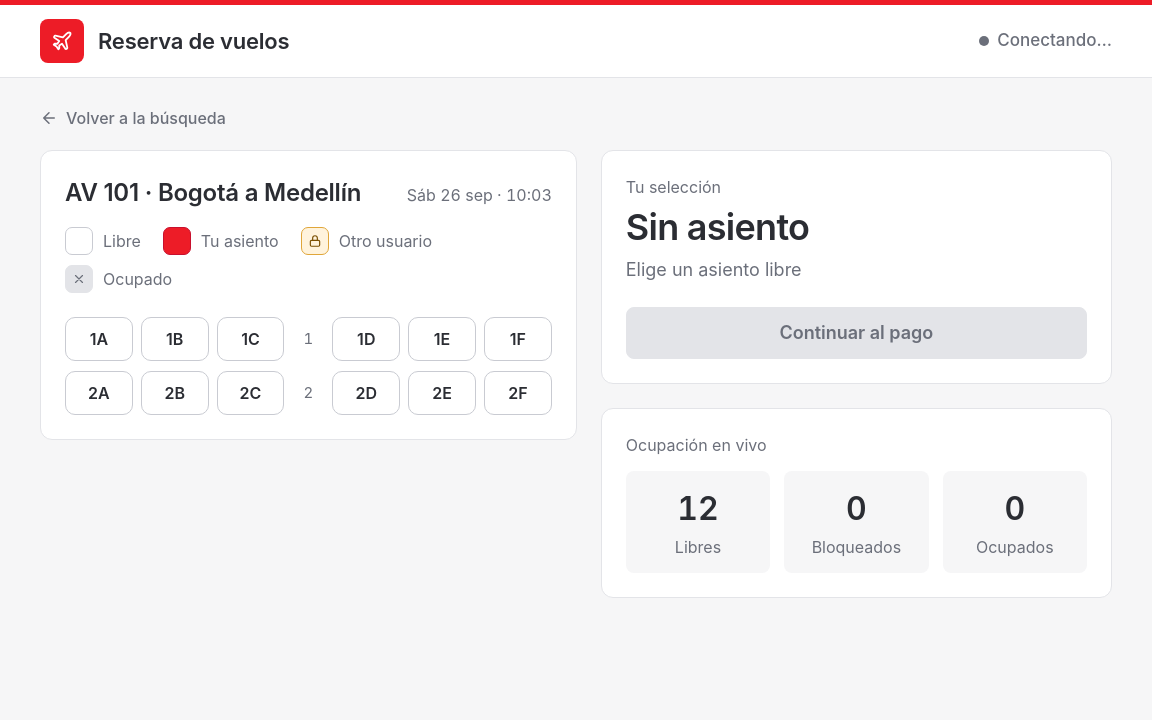
Scenario: SeatMapPage: selecting a seat › moving to another seat frees the previous one at once
Expected: the heading "AV 101 · Bogotá a Medellín" is shown, [65,175,361,211]
What coordinates should you click on to do the following:
click the button "1A"
I would click on:
 (99, 339)
Its box is [65,317,133,361].
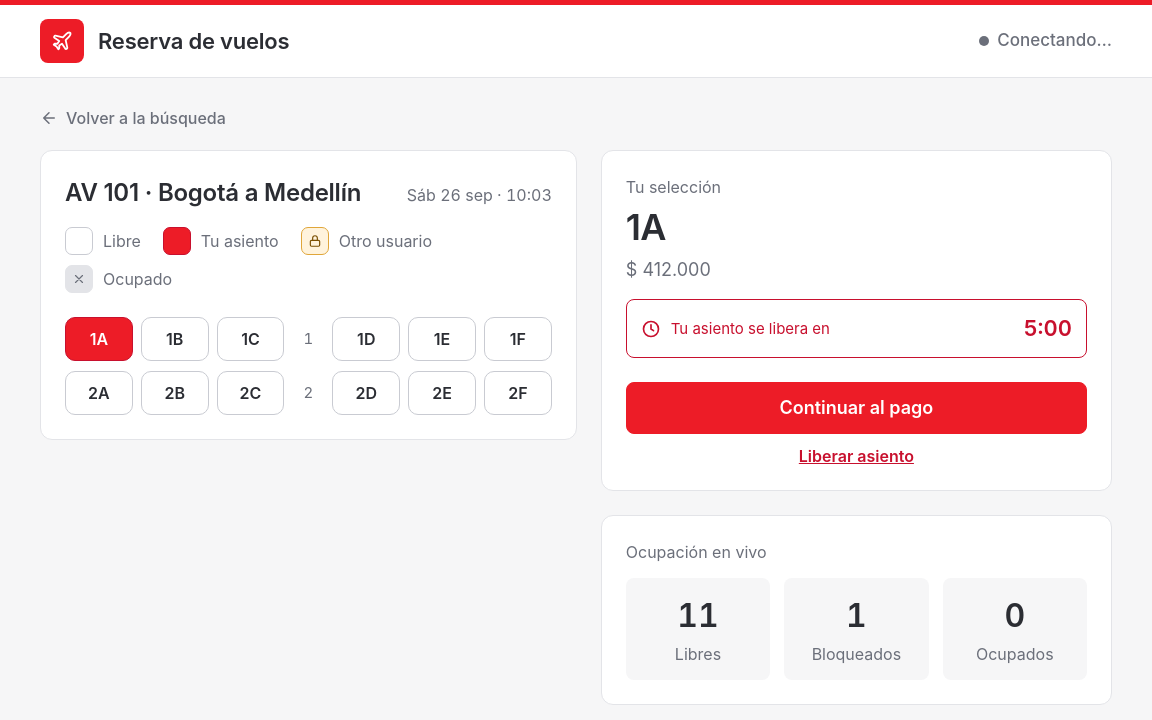
Expected: the button named "Asiento 1A, tu asiento" is shown, [65,317,133,361]
What coordinates should you click on to do the following:
click the button "2B"
I would click on:
 (175, 393)
Its box is [141,371,209,415].
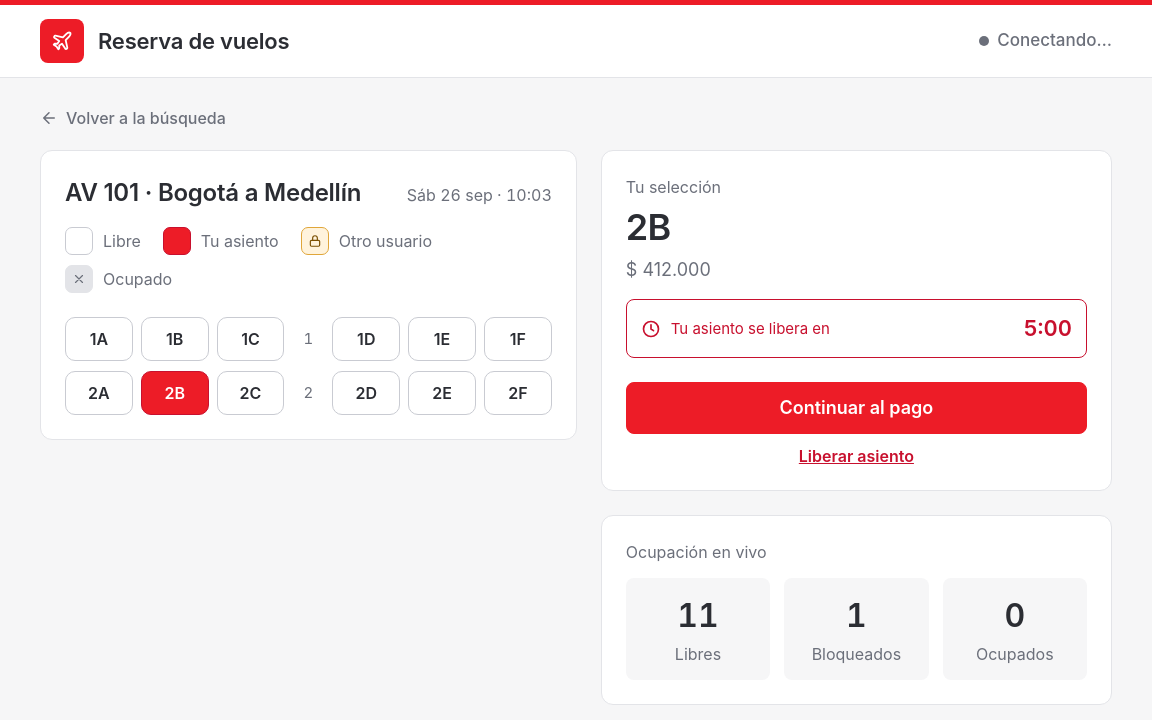
Expected: the button named "Asiento 2B, tu asiento" is shown, [141,371,209,415]
